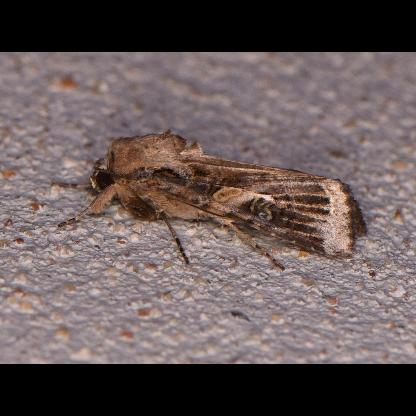Fall Armyworm Moth: (47, 125, 370, 277)
